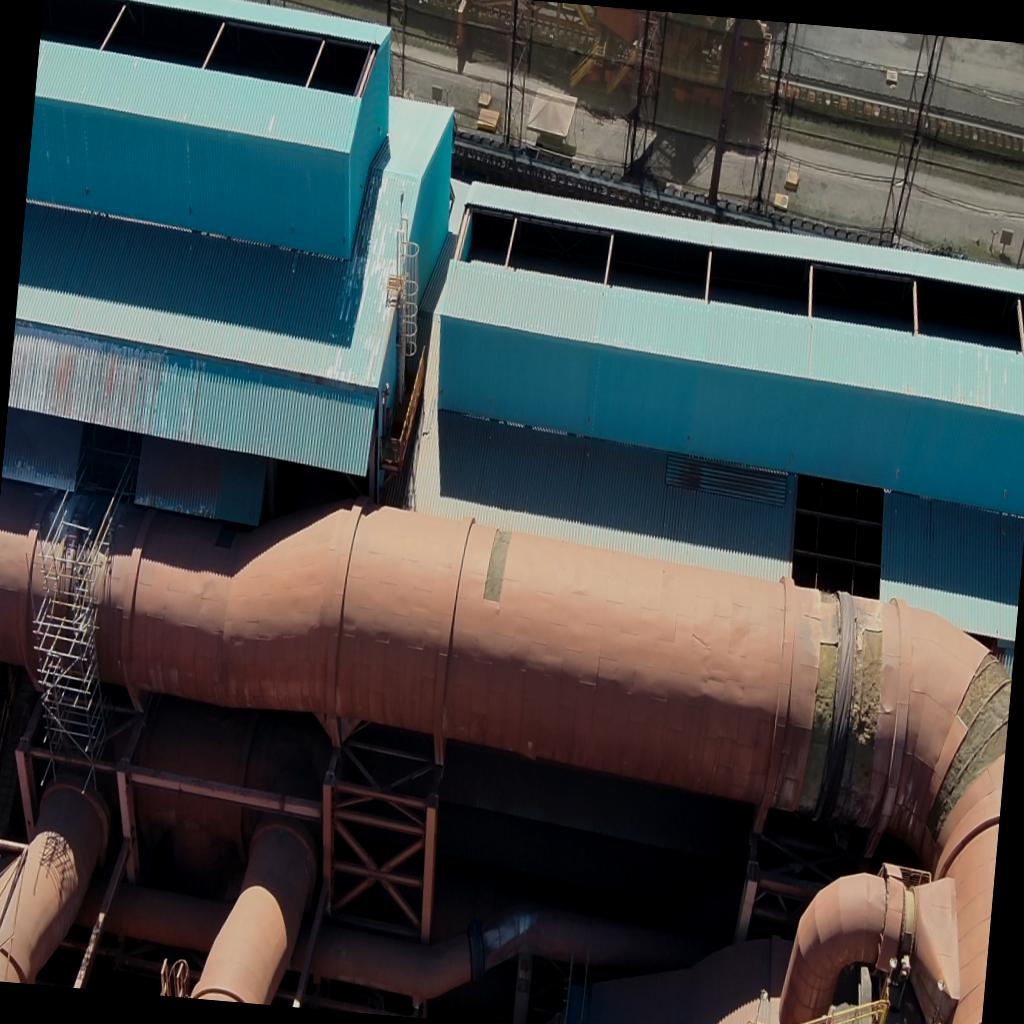Failures: (928, 640, 1014, 834), (834, 622, 891, 816), (800, 629, 843, 814), (486, 523, 513, 608)
